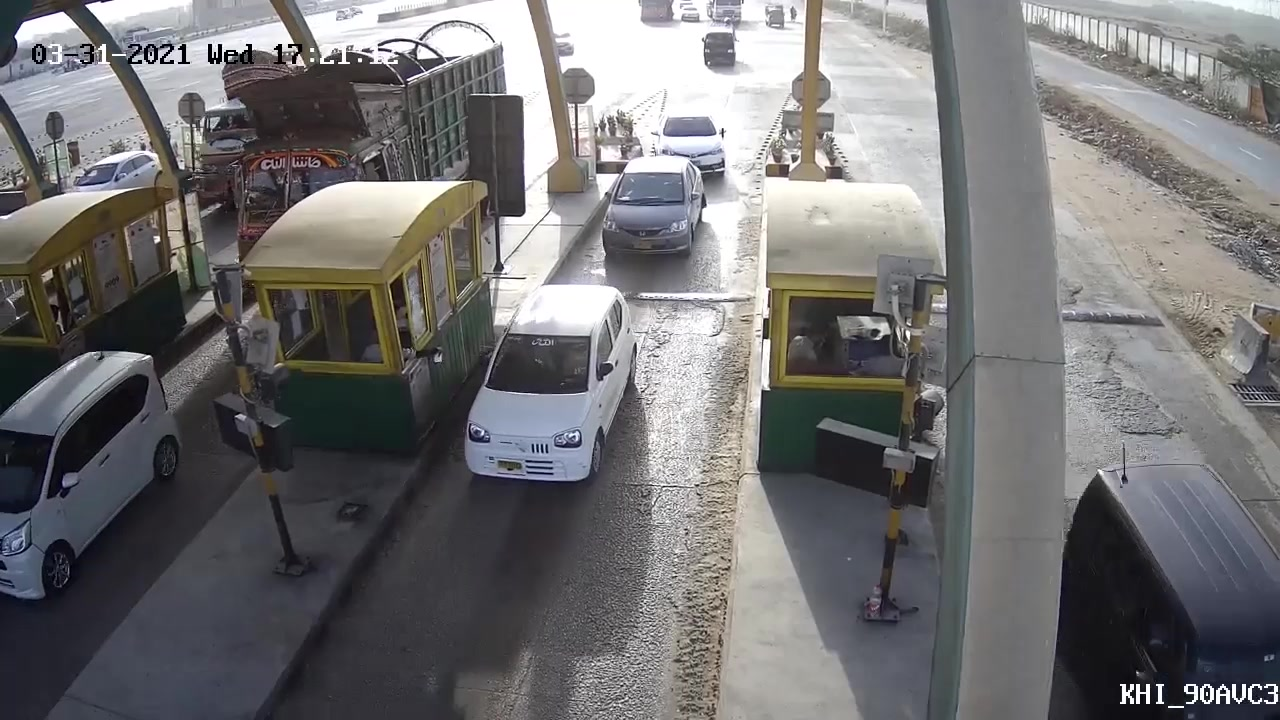F1: (459, 277, 639, 496), (586, 152, 706, 268)
